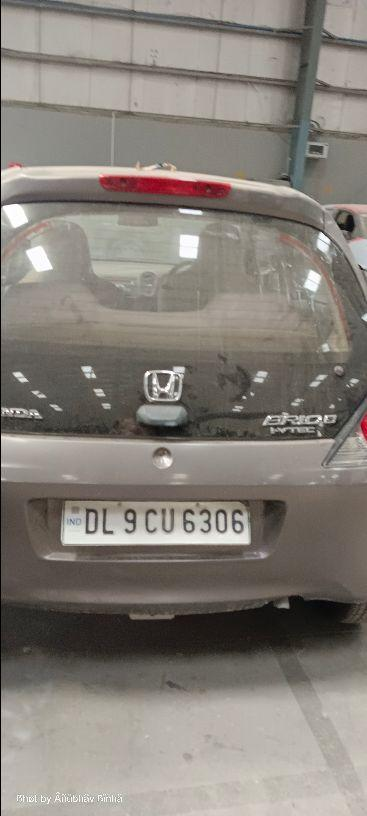license_plate: (59, 498, 252, 547)
